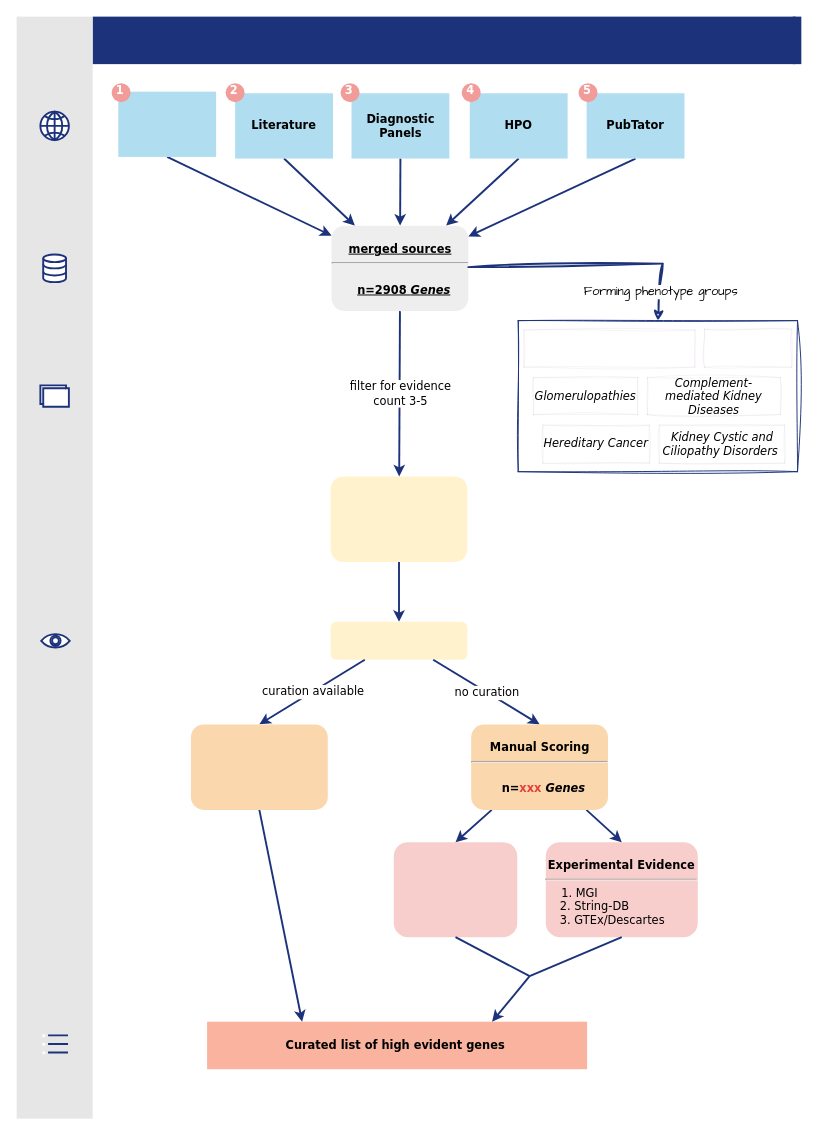
The diagram is 817 pixels wide and 1134 high, and some of its shapes have lost their labels. The shapes that lost their labels are listed below. From the top down, each one's box as (x1, y1, x2, y2) in pixels, then its label:
(92, 16, 795, 64): Kidney Genetics
(118, 91, 216, 156): PanelApp
(523, 330, 694, 367): Congenital Anomalies of the Kidney and Urinary Tract
(704, 329, 791, 367): Tubulopathies
(330, 476, 467, 561): high evidence n= 439 Genes
(330, 621, 467, 659): manual gene curation
(190, 724, 327, 809): ClinGen Score n= xxx Genes
(393, 842, 517, 937): Genetic Evidence 1. ClinVar/HGMD 2. gnomAD 3. OMIM/MONDO
